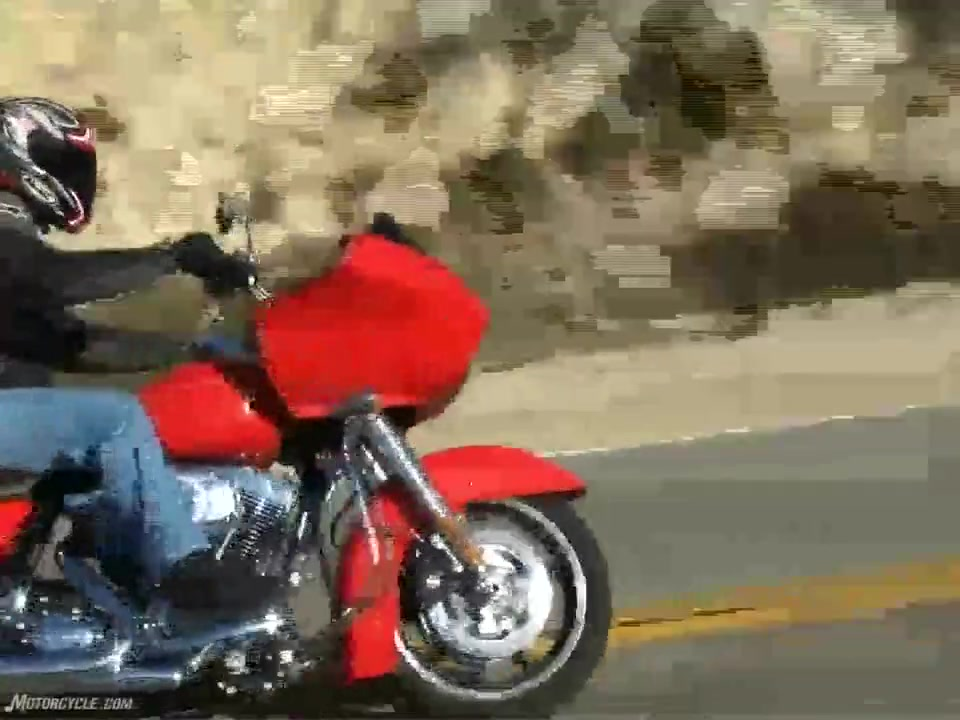motorbike: (1, 211, 613, 720)
